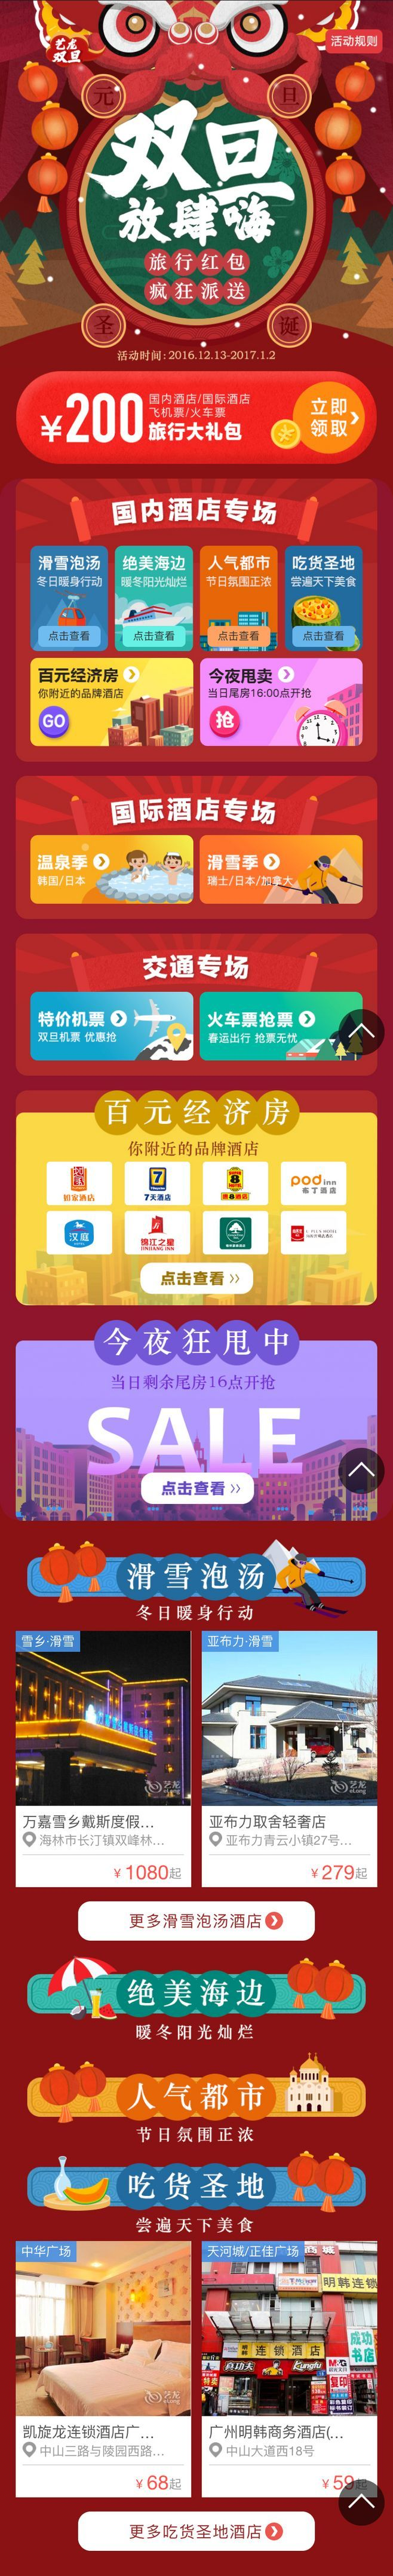floors: (0, 1536, 393, 1945), (0, 2149, 393, 2556), (0, 476, 393, 764), (0, 1088, 393, 1309), (0, 1318, 393, 1523), (0, 772, 393, 922), (0, 932, 393, 1078), (0, 366, 393, 470), (0, 2050, 393, 2146), (0, 1953, 393, 2045)
toutu: (0, 0, 393, 360)
